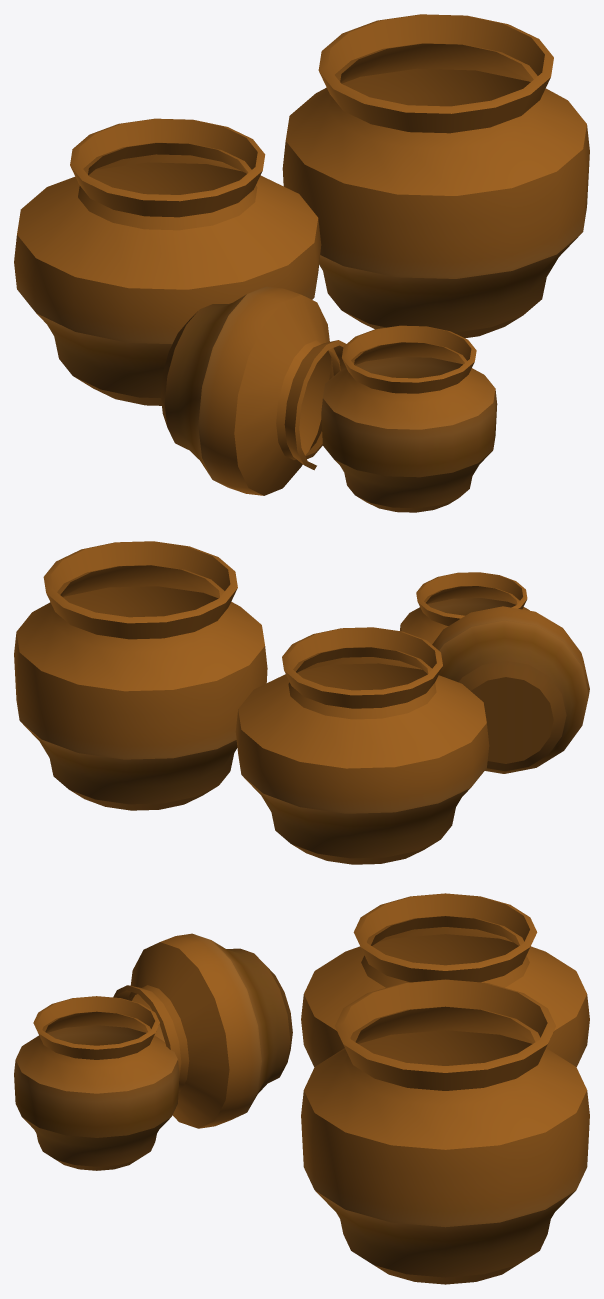
The model's file is Vasos.glb.
The picture shows the model from 3 angles, top to bottom: view 1: azimuth 30°, elevation 25°; view 2: azimuth 150°, elevation 25°; view 3: azimuth 270°, elevation 25°; orthographic projection. The views are drawn at different scales.
Parts seen in each view (by area): view 1: Vasos; view 2: Vasos; view 3: Vasos.
Boxes of the visible parts, x1,y1,x2,y2 form: Vasos: (14,14,589,512); Vasos: (14,541,589,864); Vasos: (14,893,589,1284).
Bounding box in the file's own units: 4 × 1.8 × 3.99.
Materials: 1 (1 with a texture image).
